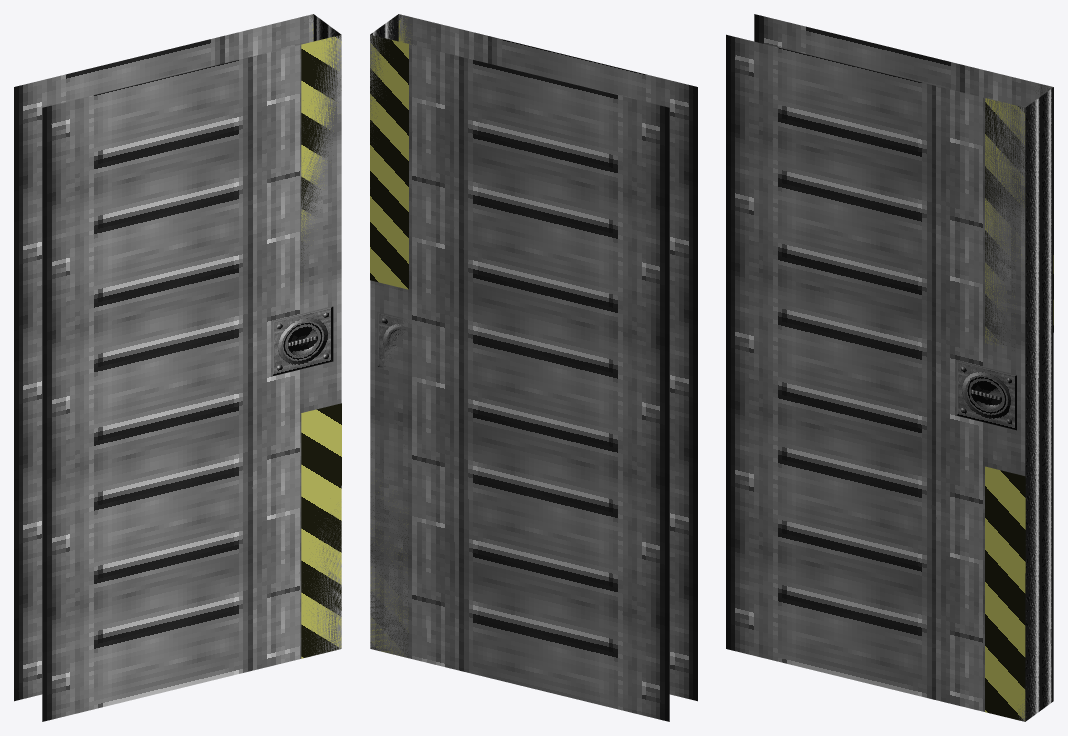
File: primary_179.glb
3 renders of one model, left to right at view 1: azimuth 30°, elevation 25°; view 2: azimuth 150°, elevation 25°; view 3: azimuth 330°, elevation 25°, orthographic.
Visible parts, largest first — view 1: Object; view 2: Object; view 3: Object.
Boxes of the visible parts, x1,y1,x2,y2 form: Object: [14, 14, 341, 721]; Object: [370, 14, 697, 721]; Object: [726, 14, 1053, 721].
Bounding box in the file's own units: 1.17 × 2.3 × 0.192.
Materials: 5 (5 with a texture image).
